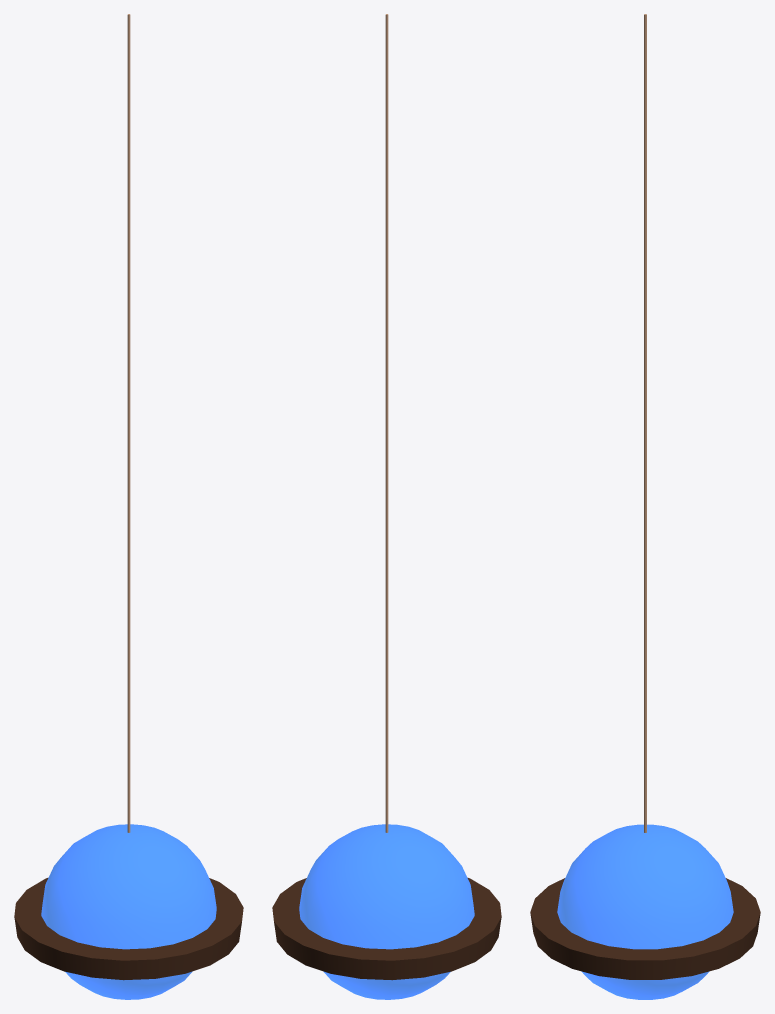
The model's file is Luce 1 Blu .fbx.
3 views of the same model, side by side, from view 1: azimuth 30°, elevation 25°; view 2: azimuth 150°, elevation 25°; view 3: azimuth 270°, elevation 25° (orthographic).
Parts seen in each view (by area): view 1: Sphere.014; view 2: Sphere.014; view 3: Sphere.014.
Part boxes in pixels (x1,y1,x2,y2): Sphere.014: [14, 14, 243, 999]; Sphere.014: [272, 14, 501, 999]; Sphere.014: [530, 14, 760, 999].
Size of the model in its own units: 49.96 by 236 by 50.47.
